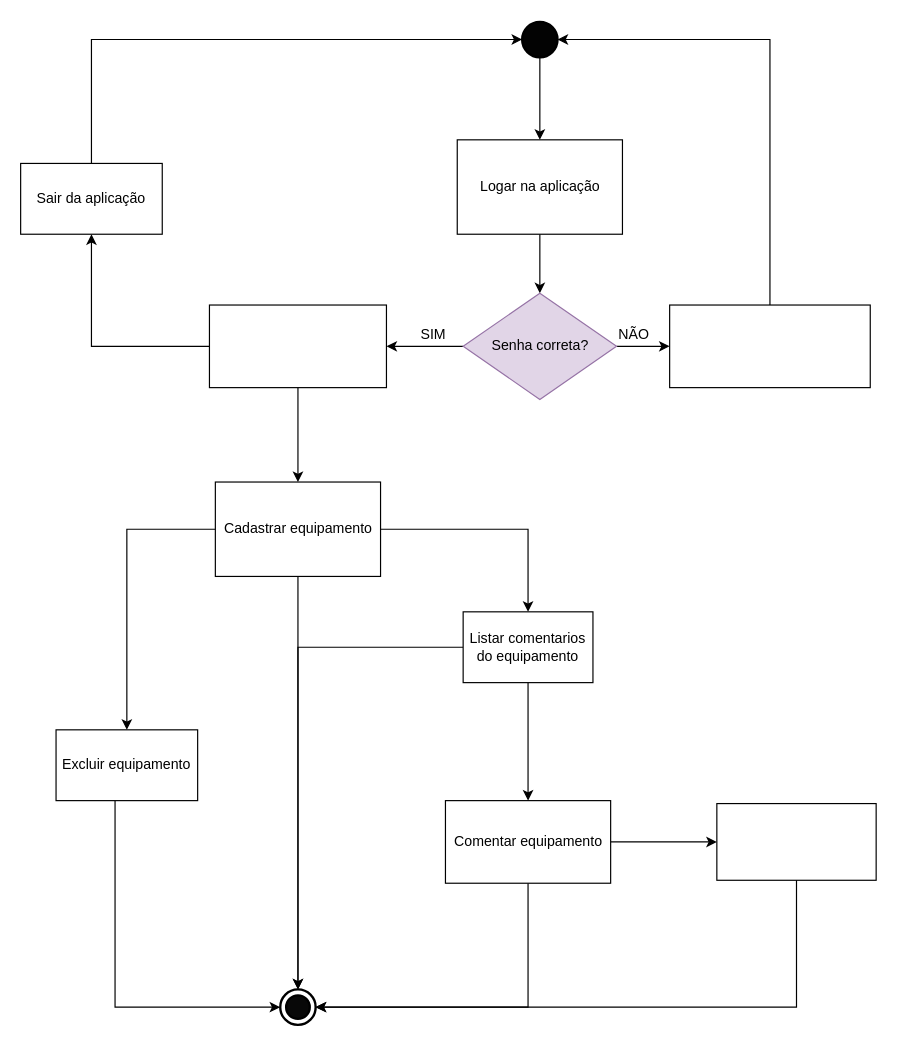
This 897x1045 diagram has some shape labels left out. Here are the shapes that lost their labels. From the top down, the box of each, then its label:
(208, 304, 386, 388): Listar equipamentos
(668, 304, 870, 388): Retornar mensagem de erro
(716, 802, 876, 880): Excluir comentario
